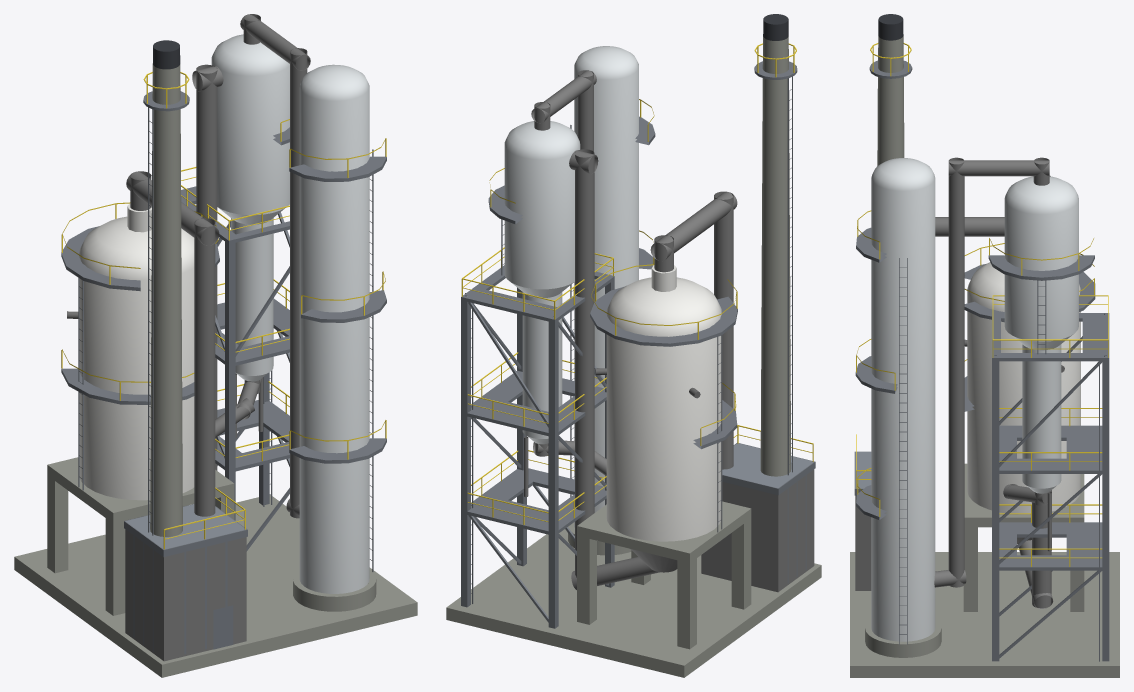
The model's file is mashup-cracker-top-prebuilt_close.fbx.
The picture shows the model from 3 angles, left to right: view 1: azimuth 30°, elevation 25°; view 2: azimuth 150°, elevation 25°; view 3: azimuth 270°, elevation 25°; orthographic projection. The views are drawn at different scales.
Parts seen in each view (by area): view 1: a1018/0/mashup-cracker-top-prebuilt_close; view 2: a1018/0/mashup-cracker-top-prebuilt_close; view 3: a1018/0/mashup-cracker-top-prebuilt_close.
Part boxes in pixels (left/top/right/bottom): a1018/0/mashup-cracker-top-prebuilt_close: left=14, top=14, right=417, bottom=677; a1018/0/mashup-cracker-top-prebuilt_close: left=446, top=14, right=821, bottom=677; a1018/0/mashup-cracker-top-prebuilt_close: left=850, top=14, right=1119, bottom=677.
Bounding box in the file's own units: 15.2 × 34.6 × 15.2.
